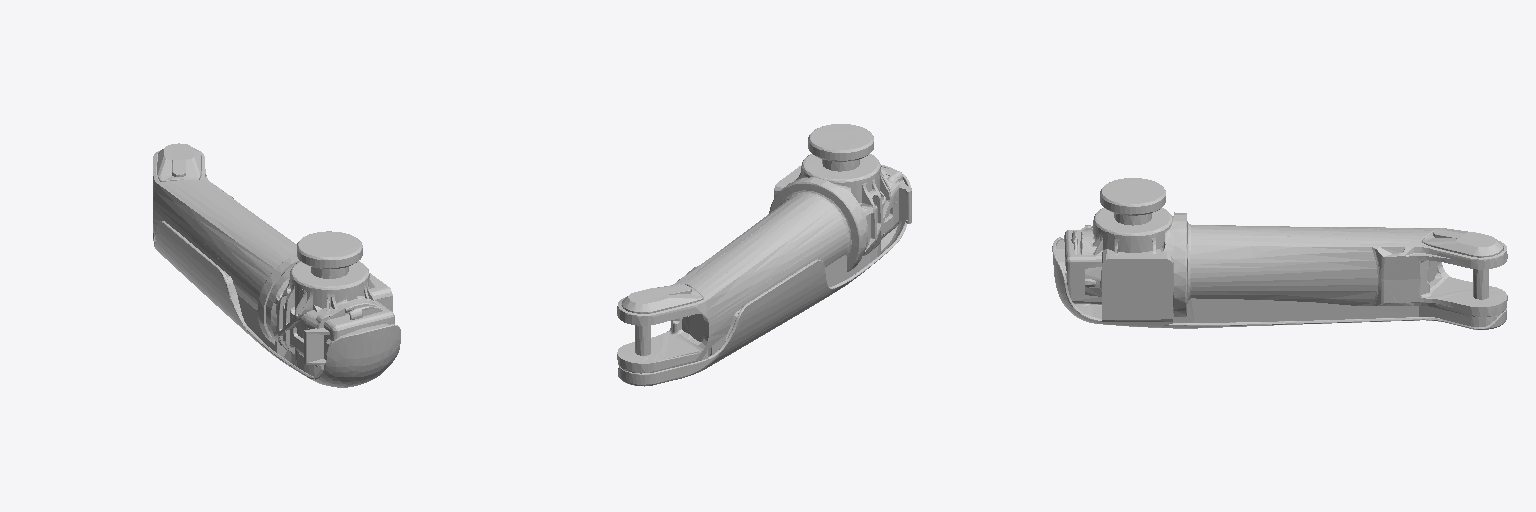
File: front_right_upper_leg.obj
3 renders of one model, left to right at view 1: azimuth 30°, elevation 25°; view 2: azimuth 150°, elevation 25°; view 3: azimuth 270°, elevation 25°, orthographic.
Visible parts, largest first — view 1: _2-042137-001-A00_TOP_LEVEL_DEFEATURED_-_NOT_FOR_PRODUCTION_003; view 2: _2-042137-001-A00_TOP_LEVEL_DEFEATURED_-_NOT_FOR_PRODUCTION_003; view 3: _2-042137-001-A00_TOP_LEVEL_DEFEATURED_-_NOT_FOR_PRODUCTION_003.
Part boxes in pixels (bbox=[...]): _2-042137-001-A00_TOP_LEVEL_DEFEATURED_-_NOT_FOR_PRODUCTION_003: bbox=[153, 143, 400, 387]; _2-042137-001-A00_TOP_LEVEL_DEFEATURED_-_NOT_FOR_PRODUCTION_003: bbox=[617, 124, 911, 386]; _2-042137-001-A00_TOP_LEVEL_DEFEATURED_-_NOT_FOR_PRODUCTION_003: bbox=[1052, 178, 1507, 329].
Bounding box in the file's own units: 0.1011 × 0.1323 × 0.4184.